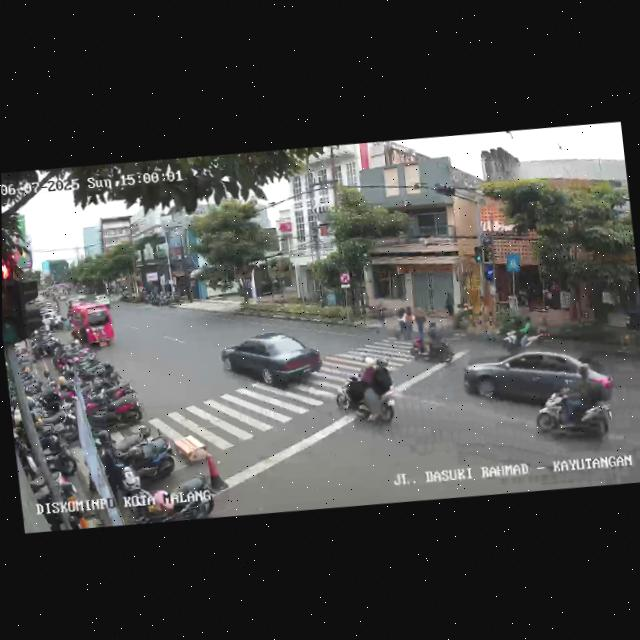car: (460, 339, 609, 413), (220, 326, 328, 399), (65, 302, 114, 351)
motorcycle: (530, 367, 619, 453), (330, 353, 402, 431), (406, 321, 453, 368), (499, 314, 550, 351), (611, 300, 640, 364)
person: (403, 304, 418, 342), (414, 305, 429, 341), (393, 306, 408, 342)
